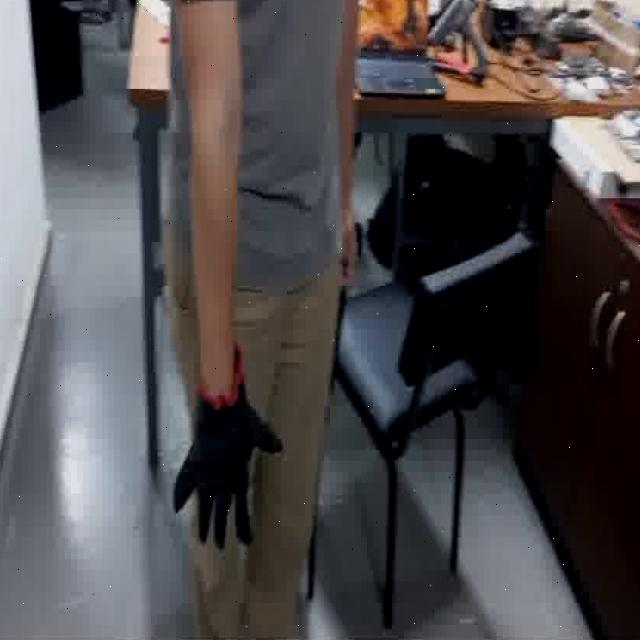Gloves: (173, 342, 284, 549)
